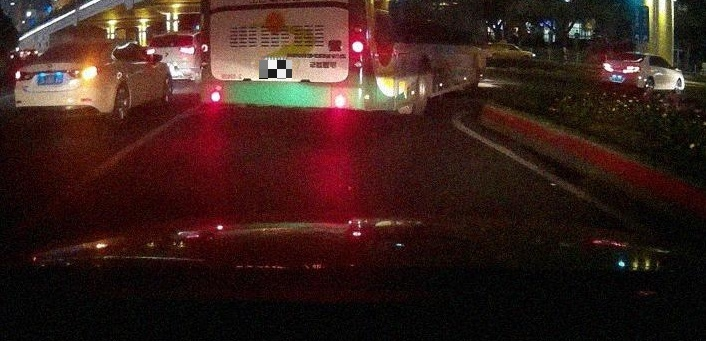L_light: (14, 70, 34, 81), (603, 63, 613, 72)
R_light: (69, 65, 103, 78), (623, 66, 640, 73)
T_light: (71, 44, 81, 48), (628, 54, 634, 57)
night-no: (601, 52, 645, 92)
night-right: (14, 38, 111, 132)
plate_1: (259, 60, 292, 79)
